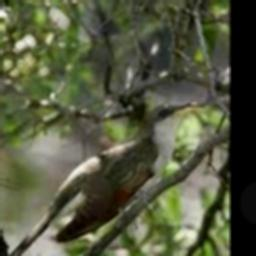Cuckoo: (8, 102, 202, 256)
